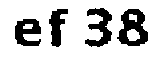3: (81, 4, 114, 53)
8: (116, 4, 151, 50)
e: (12, 15, 44, 49)
f: (46, 4, 75, 53)
